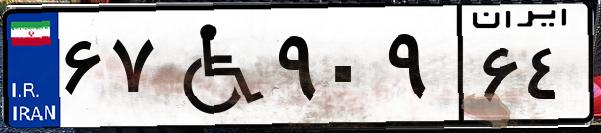0: (330, 28, 385, 110)
4: (525, 38, 570, 115)
6: (57, 26, 110, 100), (475, 38, 525, 113)
7: (110, 28, 158, 98)
9: (270, 28, 330, 110), (385, 28, 445, 110)
ژ (معلولین و جانبازان): (158, 12, 270, 120)
